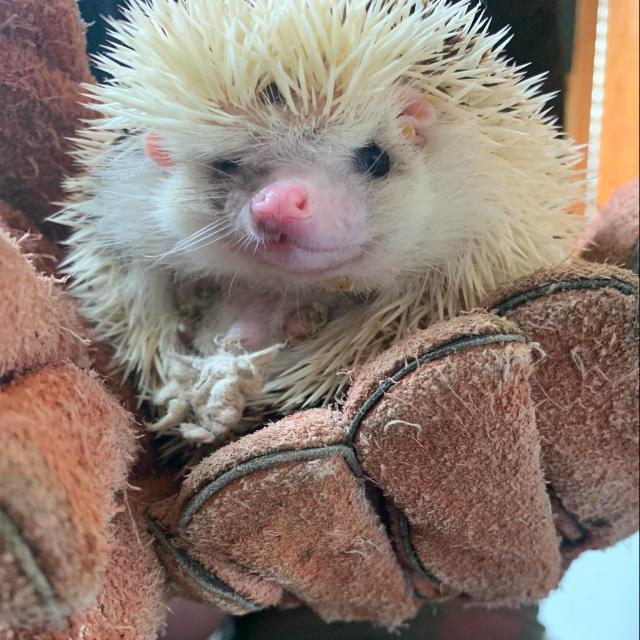hedgehog: (50, 0, 586, 454)
